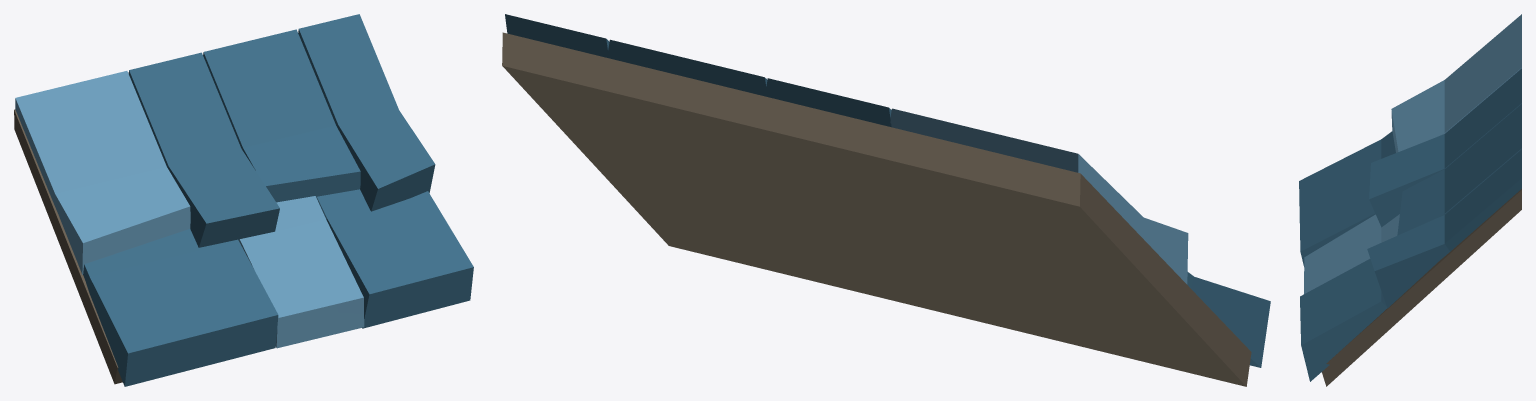
The model's file is ROOF_base_small_1.fbx.
3 renders of one model, left to right at view 1: azimuth 30°, elevation 25°; view 2: azimuth 150°, elevation 25°; view 3: azimuth 270°, elevation 25°, orthographic. The views are drawn at different scales.
Visible parts, largest first — view 1: ROOF_base_small_1; view 2: ROOF_base_small_1; view 3: ROOF_base_small_1.
Part boxes in pixels (x1=…): ROOF_base_small_1: x1=14, y1=14, x2=473, y2=386; ROOF_base_small_1: x1=502, y1=14, x2=1270, y2=386; ROOF_base_small_1: x1=1299, y1=14, x2=1521, y2=386.
Size of the model in its own units: 100 by 58.7 by 57.
